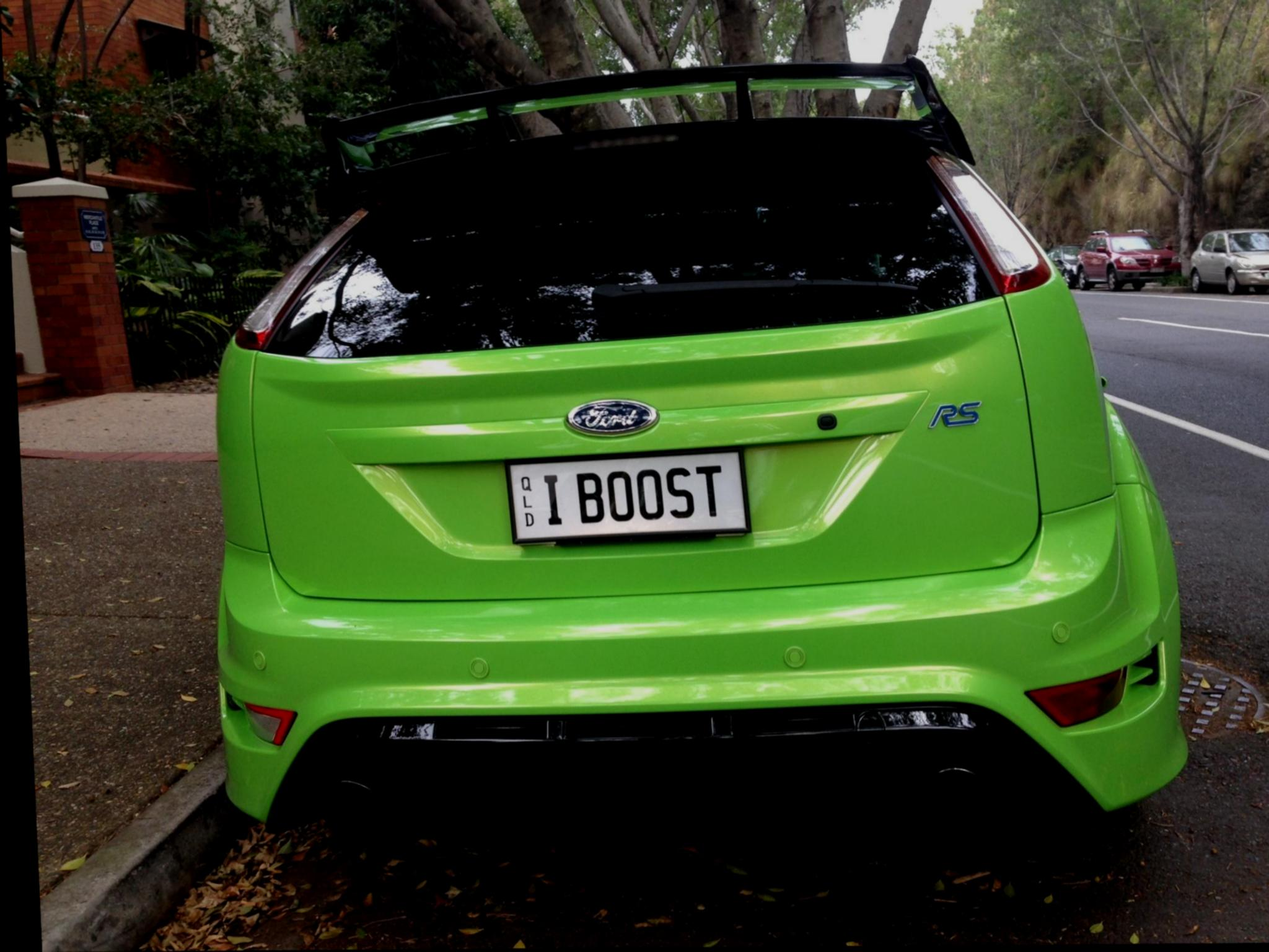License_Plate: (491, 435, 769, 567)
